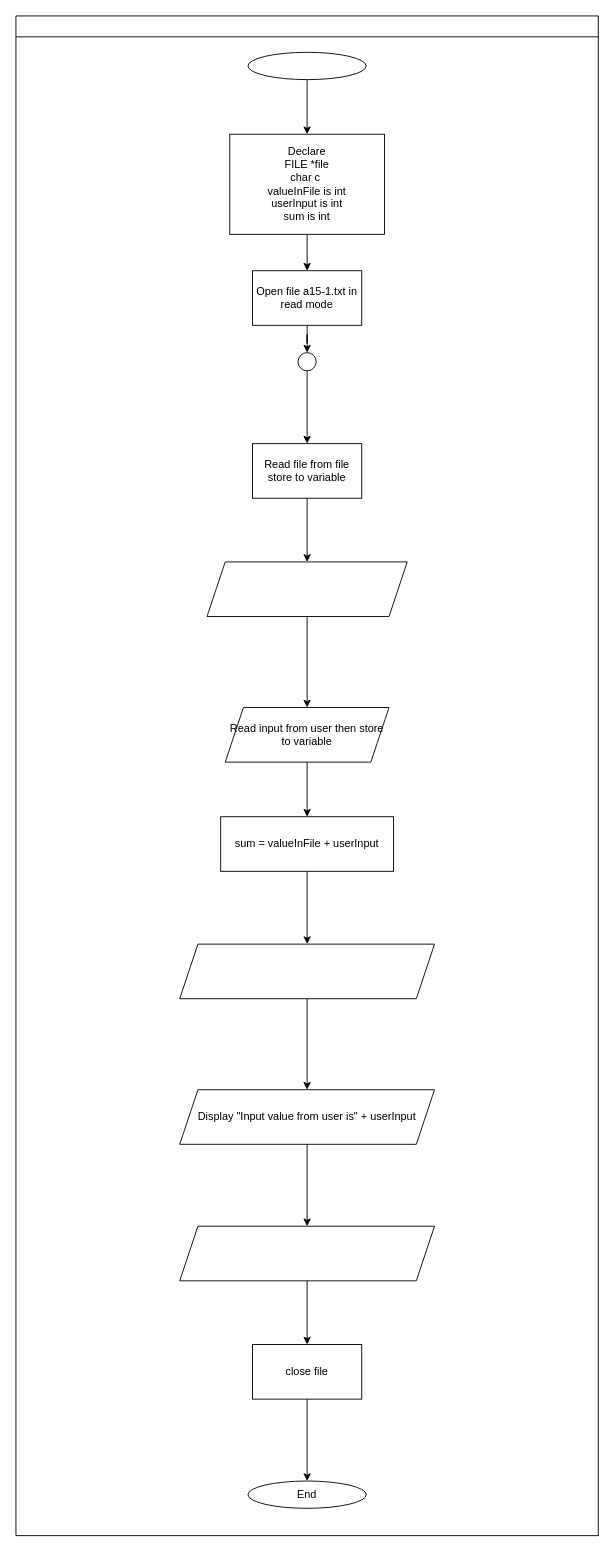
This 614x1552 diagram has some shape labels left out. The shapes that lost their labels are listed below. From the top down, each one's centre as x and y in pixels, then its label:
(306,65): Start
(306,589): Display "Input vale from user to B:"
(307,971): Display "Read File to A is" + valueInFile
(307,1253): Display "Answer" + sum
